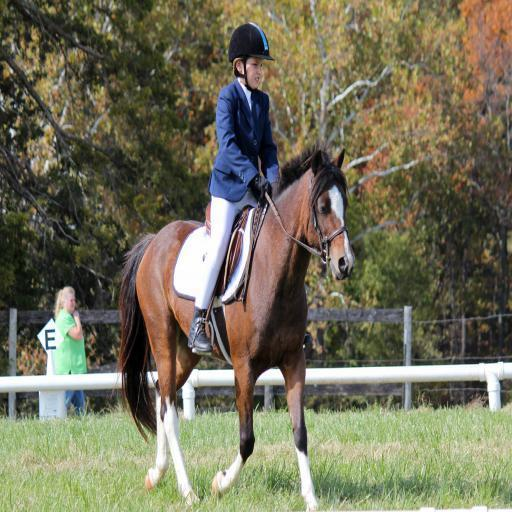horse: (110, 134, 357, 512)
